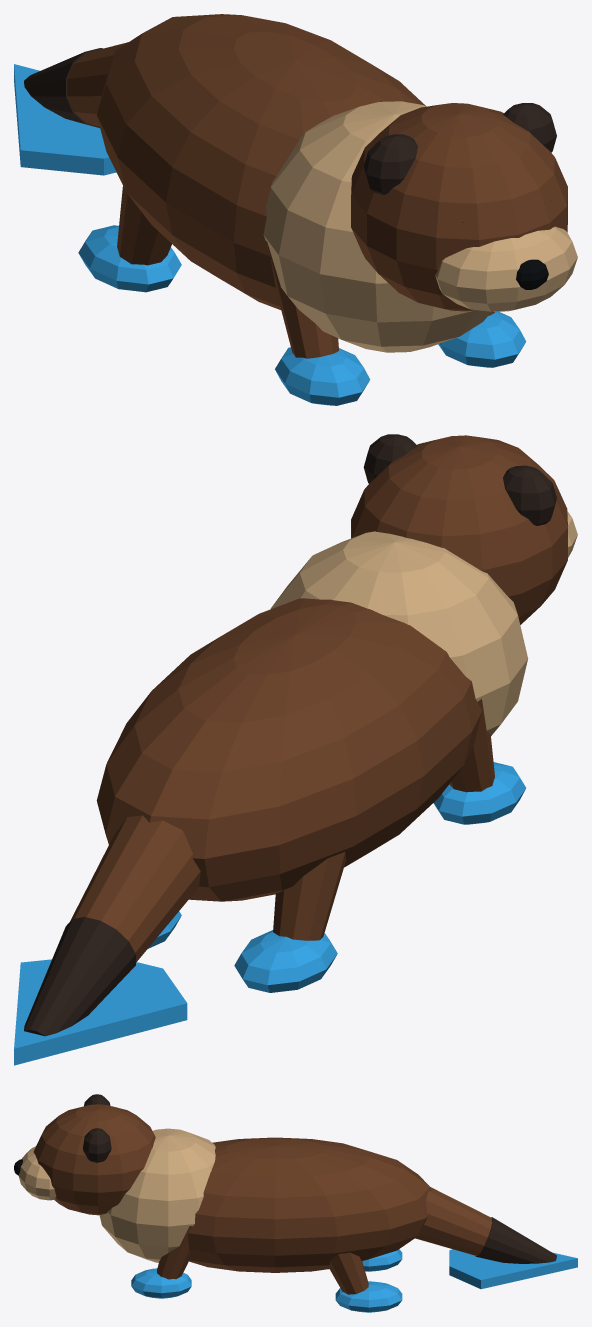
File: MagicForestOtter.obj
The picture shows the model from 3 angles, top to bottom: view 1: azimuth 30°, elevation 25°; view 2: azimuth 150°, elevation 25°; view 3: azimuth 270°, elevation 25°; orthographic projection. The views are drawn at different scales.
Visible parts, largest first — view 1: Body, Head, Chest, Muzzle, WaterFin, Paw-0.58, BackPaw-0.58, Paw0.58, TailA, Leg-0.58, EarL, Arm-0.58 (+3 smaller); view 2: Body, Head, Chest, TailA, WaterFin, TailB, BackPaw-0.58, Leg-0.58, Paw-0.58, EarL, Arm-0.58, EarR; view 3: Body, Chest, Head, TailA, WaterFin, TailB, BackPaw0.58, Paw0.58, Leg0.58, Muzzle, Arm0.58, EarR (+1 smaller).
Boxes of the visible parts, x1,y1,x2,y2 form: Body: (96,14,425,309); Head: (351,103,567,311); Chest: (263,101,491,352); Muzzle: (435,226,577,311); WaterFin: (14,64,116,175); Paw-0.58: (275,347,370,405); BackPaw-0.58: (78,225,181,292); Paw0.58: (438,312,526,367); TailA: (67,42,128,126); Leg-0.58: (117,186,171,265); EarL: (363,134,417,194); Arm-0.58: (265,241,338,358); Body: (96,598,481,901); Head: (351,435,567,624); Chest: (270,531,528,735); TailA: (70,815,200,962); WaterFin: (14,959,187,1065); TailB: (24,917,135,1036); BackPaw-0.58: (234,930,337,992); Leg-0.58: (273,852,346,940); Paw-0.58: (433,762,525,824); EarL: (503,465,556,525); Arm-0.58: (449,698,494,792); EarR: (363,434,417,483); Body: (188,1137,431,1272); Chest: (99,1128,215,1262); Head: (33,1104,155,1215); TailA: (415,1187,492,1255); WaterFin: (449,1249,577,1289); TailB: (475,1217,556,1263); BackPaw0.58: (335,1281,402,1312); Paw0.58: (131,1268,191,1298); Leg0.58: (328,1252,368,1294); Muzzle: (18,1146,55,1200); Arm0.58: (157,1226,192,1279); EarR: (83,1128,111,1162).
Bounding box in the file's own units: 1.92 × 2.36 × 6.75.
